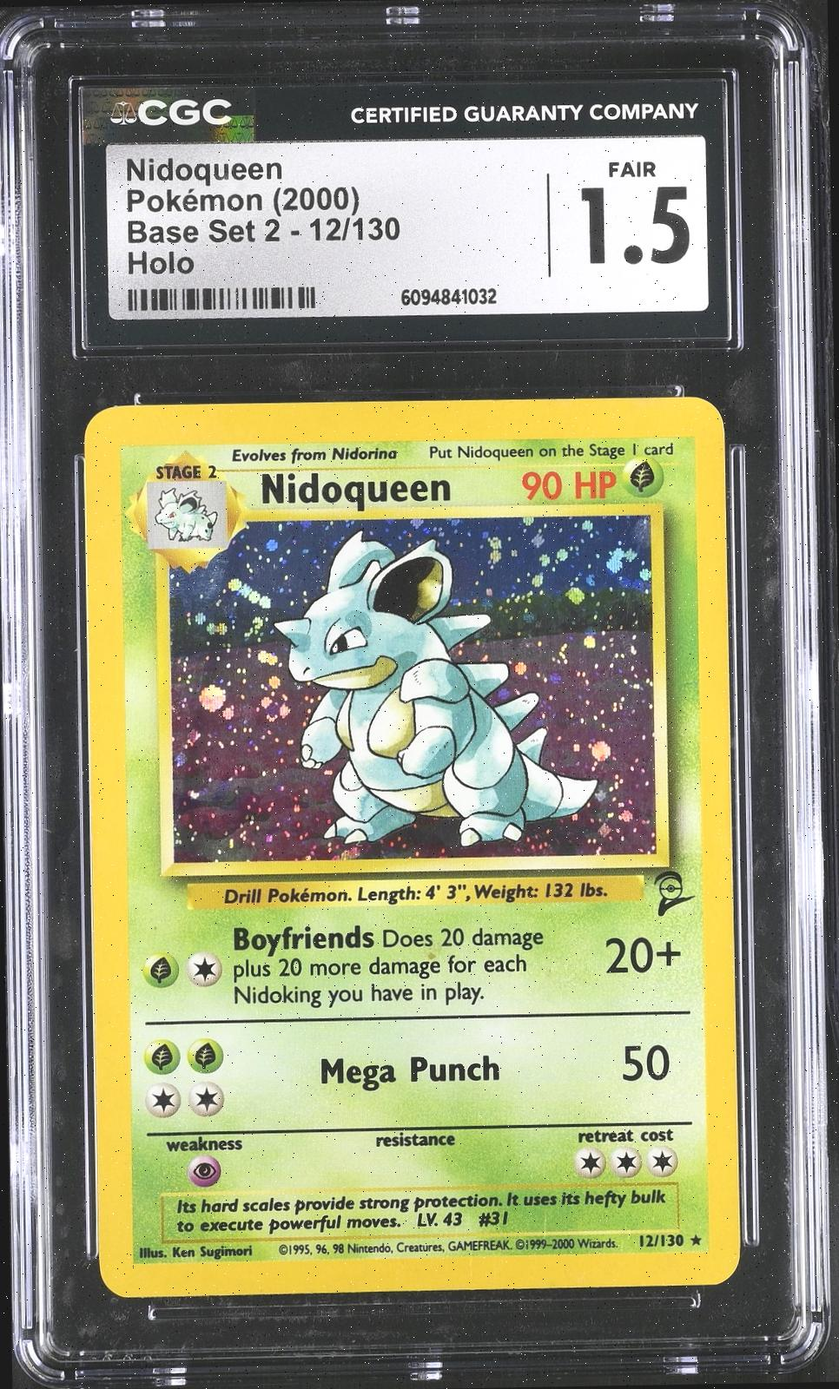card-2UtV: (83, 395, 741, 1299)
